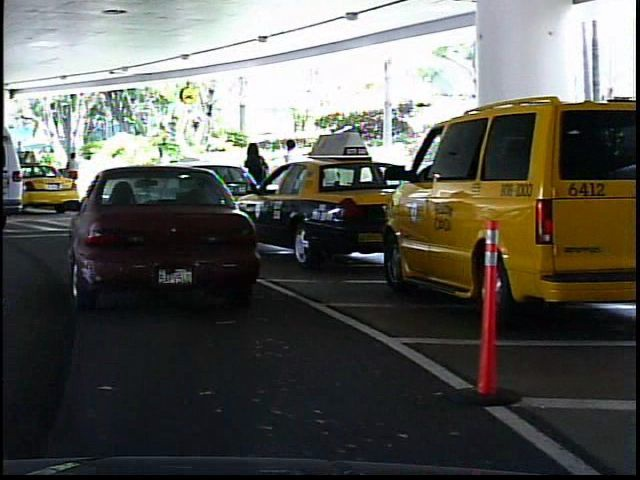person: (240, 137, 275, 218), (276, 134, 306, 211), (149, 142, 173, 204), (61, 150, 83, 196)
